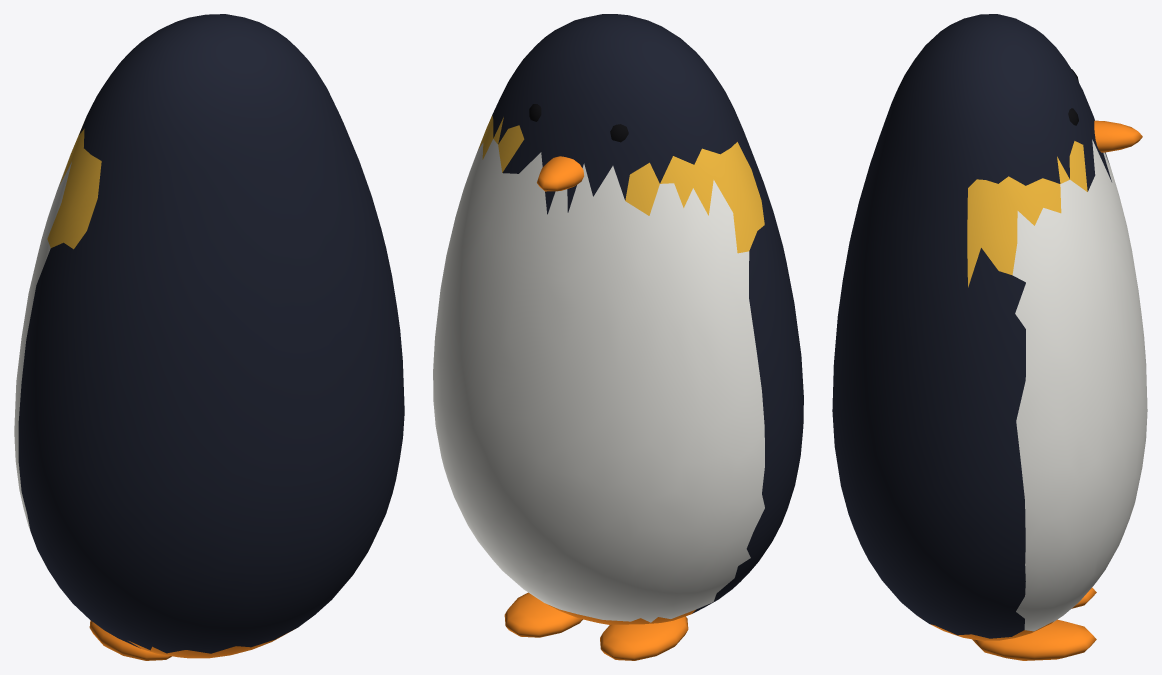
File: animal_penguin.glb
3 views of the same model, side by side, from view 1: azimuth 30°, elevation 25°; view 2: azimuth 150°, elevation 25°; view 3: azimuth 270°, elevation 25° (orthographic). The views are drawn at different scales.
Visible parts, largest first — view 1: Body; view 2: Body, Head; view 3: Body, Head.
Boxes of the visible parts, x1,y1,x2,y2 form: Body: [14, 14, 404, 660]; Body: [433, 14, 803, 660]; Head: [529, 104, 628, 191]; Body: [832, 14, 1147, 660]; Head: [1068, 69, 1142, 152].
Bounding box in the file's own units: 0.7077 × 1.2 × 0.5662.
